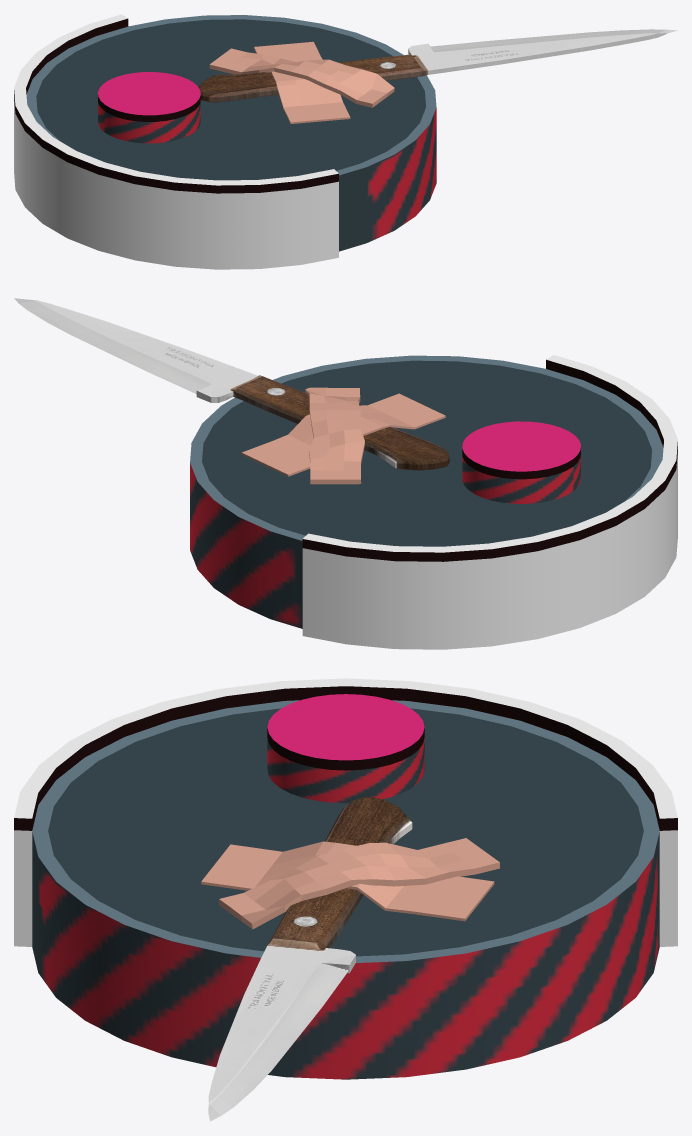
File: пылесос.fbx_Scene.fbx
3 views of the same model, one above another, from view 1: azimuth 30°, elevation 25°; view 2: azimuth 150°, elevation 25°; view 3: azimuth 270°, elevation 25° (orthographic). The views are drawn at different scales.
Parts seen in each view (by area): view 1: Цилиндр; view 2: Цилиндр; view 3: Цилиндр.
Boxes of the visible parts, box(x1,y1,x2,y2) form: Цилиндр: box(14, 14, 677, 269); Цилиндр: box(14, 298, 677, 649); Цилиндр: box(14, 678, 677, 1121).
Bounding box in the file's own units: 332 × 55.86 × 212.
2 materials, 2 textured.
